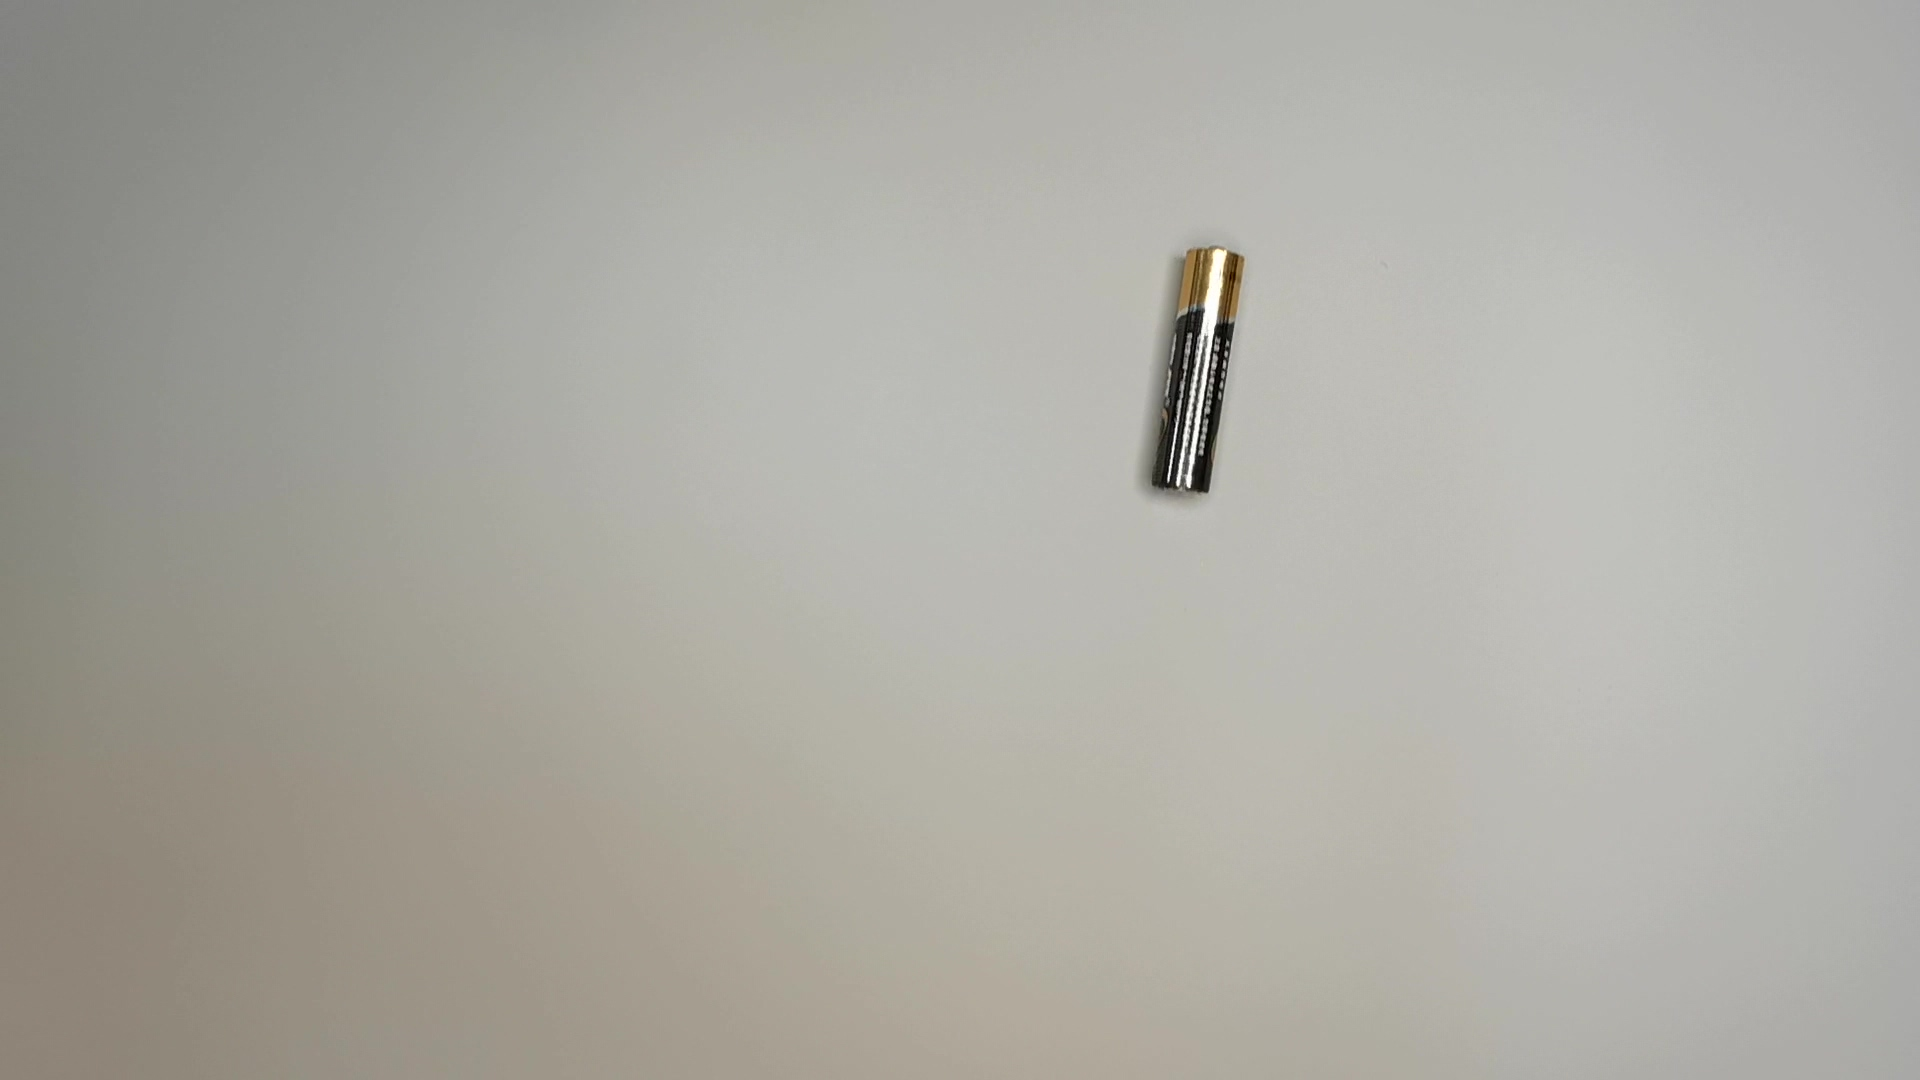battery: (1143, 235, 1251, 497)
